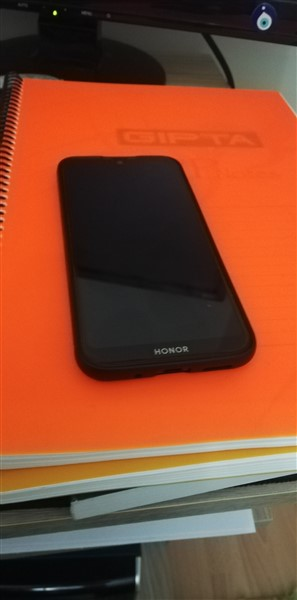telefon: (55, 153, 264, 382)
